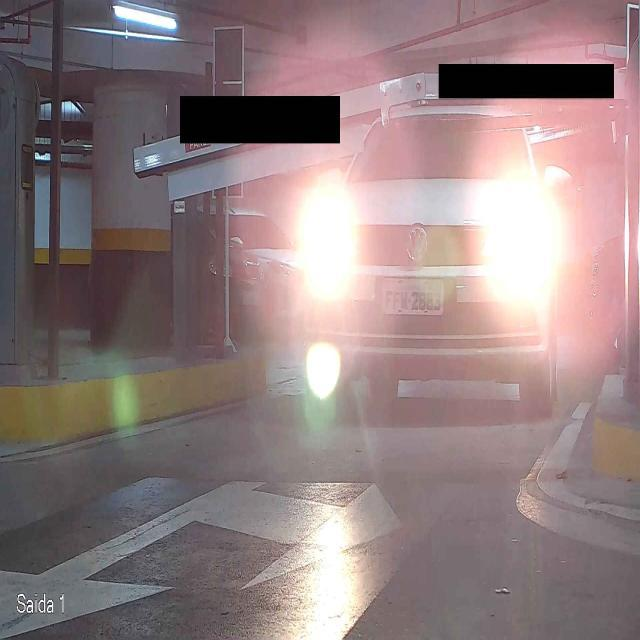old_plate: (380, 276, 447, 318)
